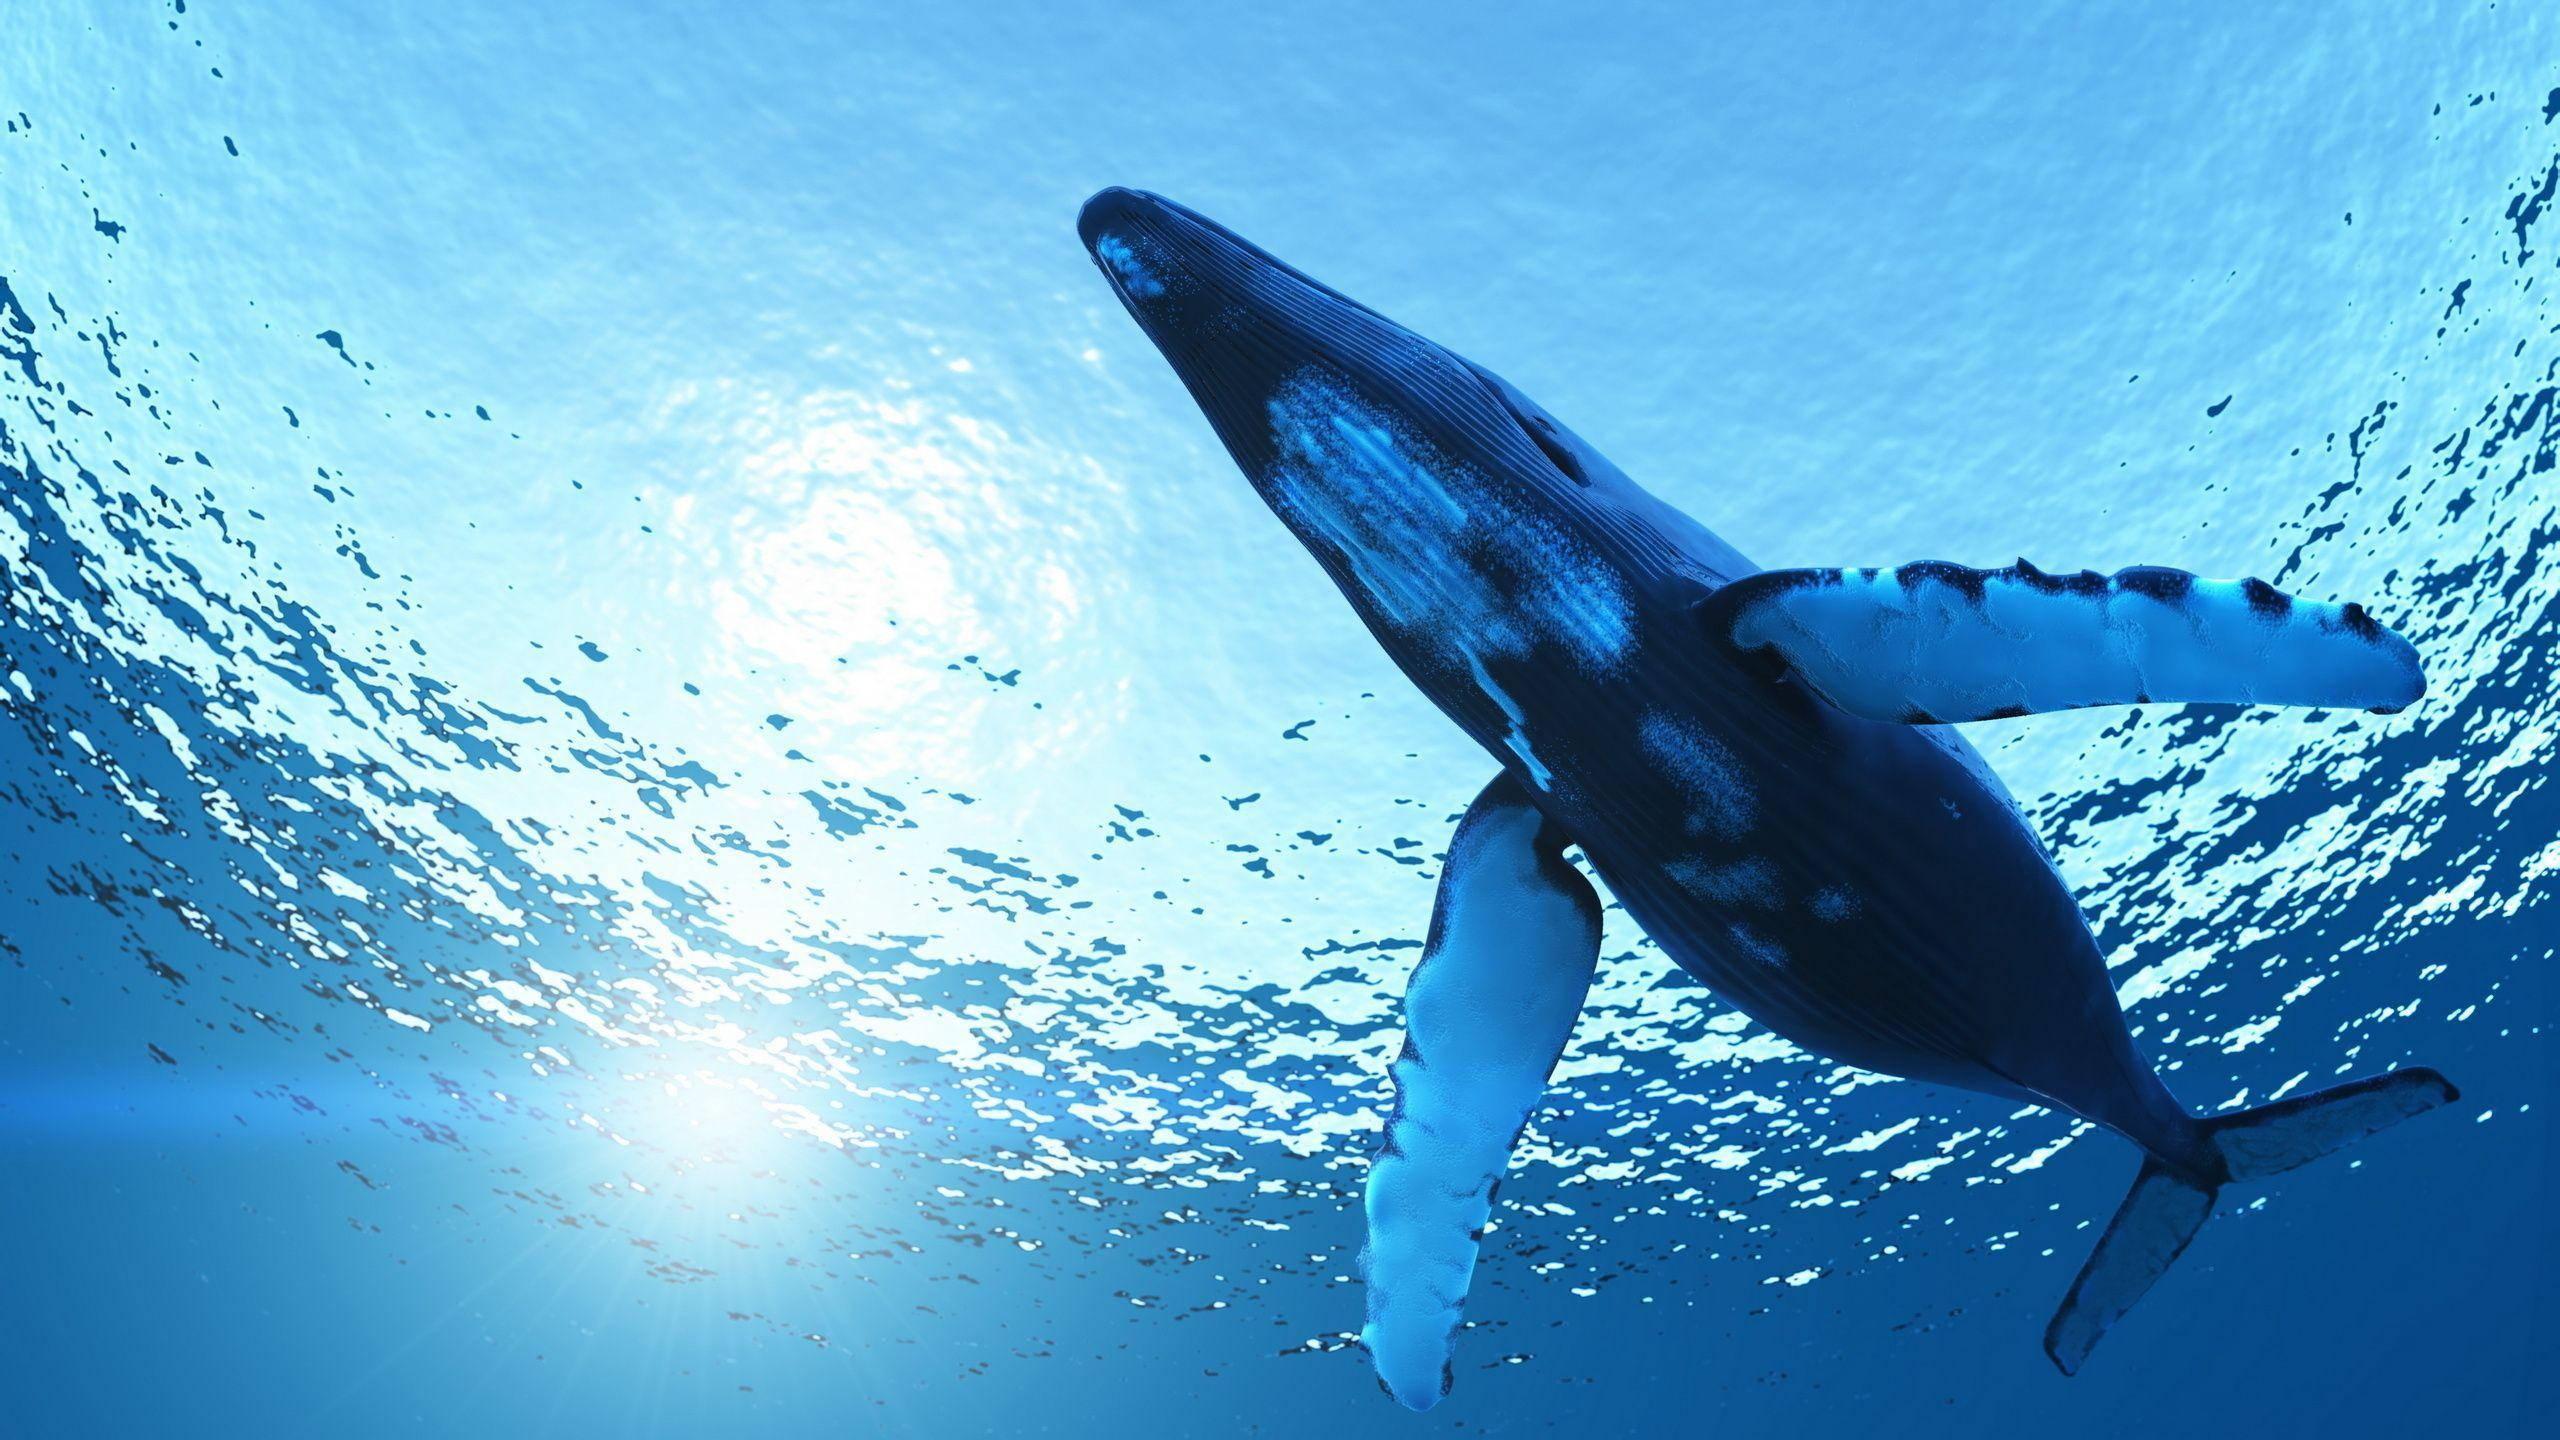fish: (1037, 162, 2465, 1385)
